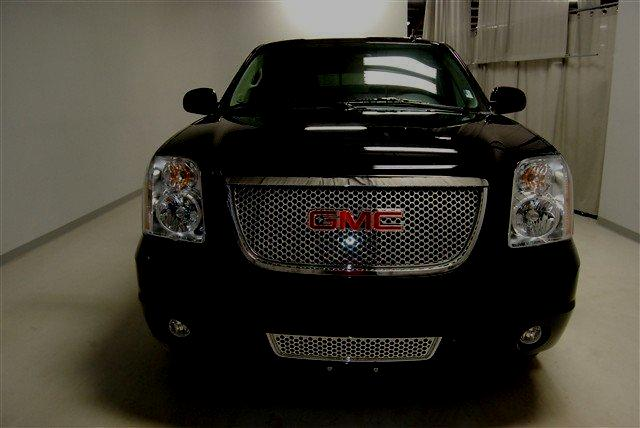GMC: (304, 206, 414, 236)
